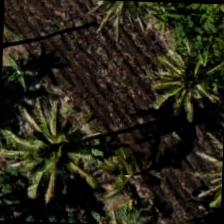Kelapa_Sawit: (9, 102, 102, 194), (135, 29, 223, 124), (81, 0, 174, 49)
